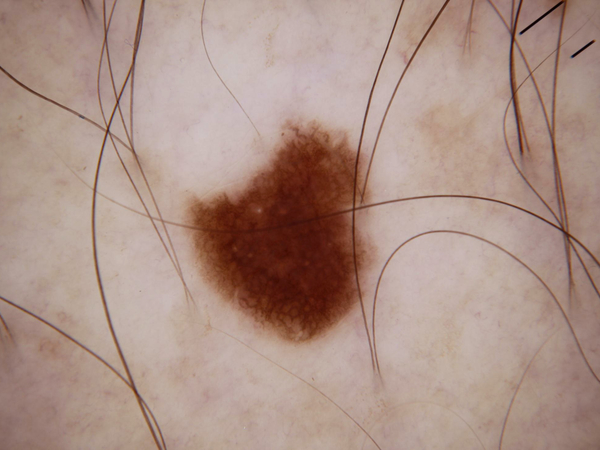Detected Lesion: (174, 109, 382, 350)
